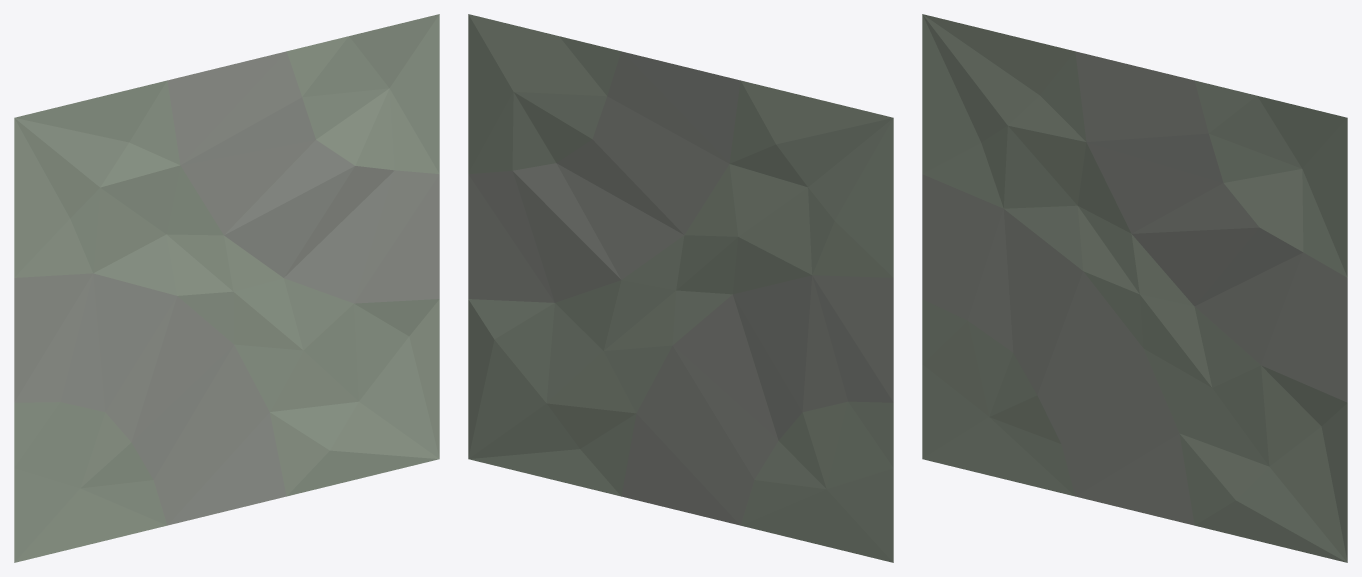
Rendered from ColoredWallpapper_00.fbx.
The picture shows the model from 3 angles, left to right: view 1: azimuth 30°, elevation 25°; view 2: azimuth 150°, elevation 25°; view 3: azimuth 330°, elevation 25°; orthographic projection.
Visible parts, largest first — view 1: ColoredWallpapper_00; view 2: ColoredWallpapper_00; view 3: ColoredWallpapper_00.
Boxes of the visible parts, x1,y1,x2,y2 form: ColoredWallpapper_00: (14,14,439,562); ColoredWallpapper_00: (468,14,893,562); ColoredWallpapper_00: (922,14,1347,562).
Size of the model in its own units: 100 by 100 by 1.74.
Materials: 1 (1 with a texture image).
